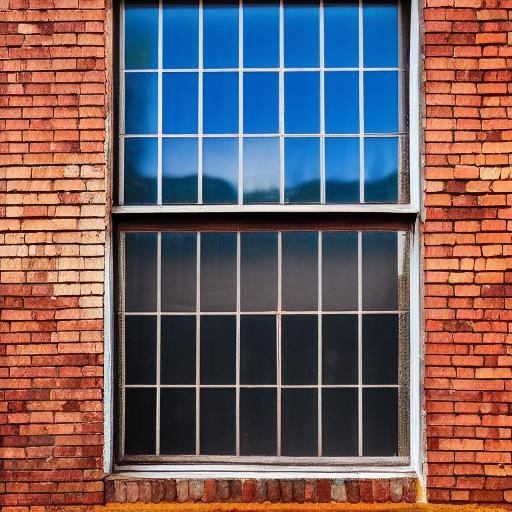Window: (103, 2, 428, 508)
